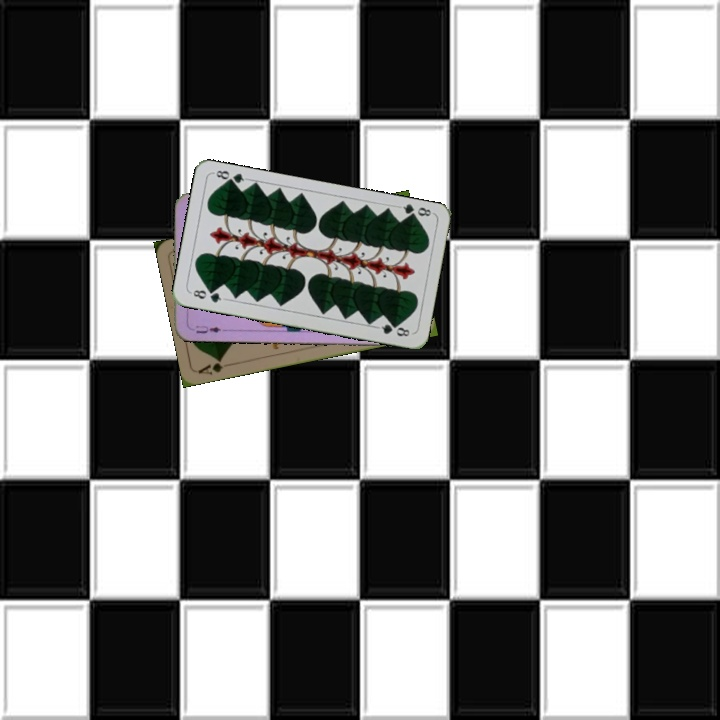EU: (186, 321, 227, 336)
G8: (395, 200, 433, 223), (187, 286, 227, 305)
GA: (195, 355, 235, 377)
